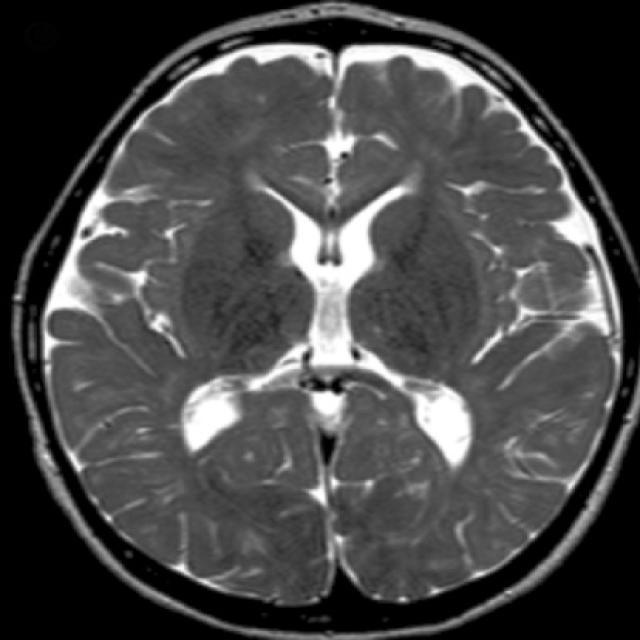No_Tumor: (15, 4, 639, 637)
